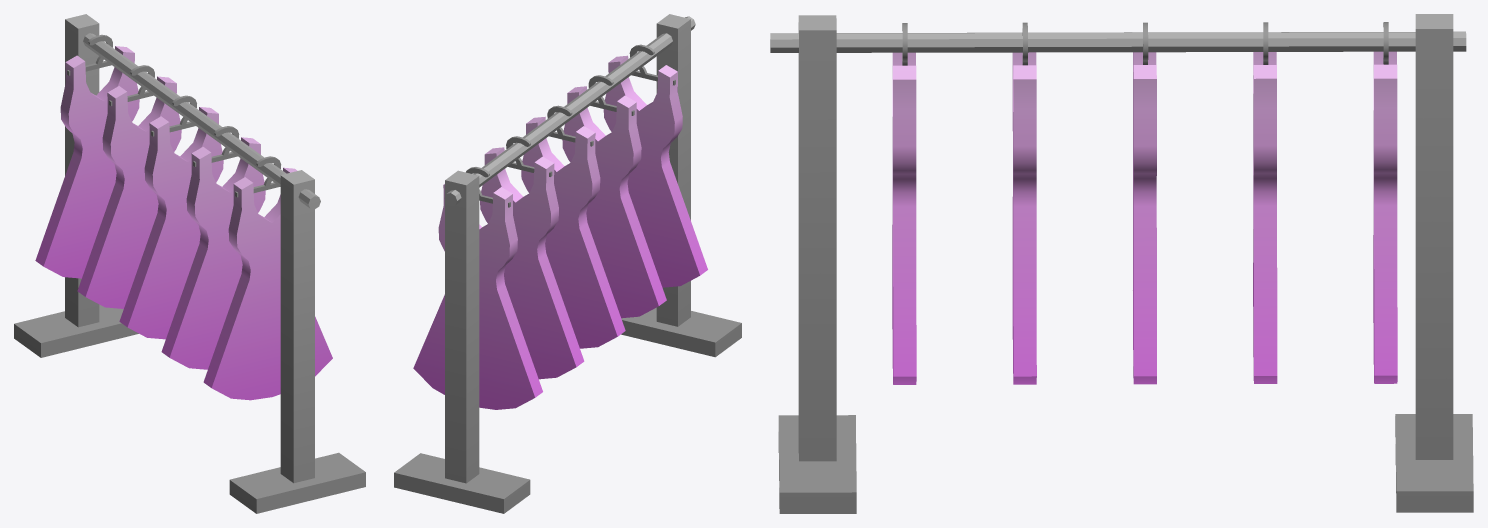
Rendered from cloth stand pink.fbx.
3 renders of one model, left to right at view 1: azimuth 30°, elevation 25°; view 2: azimuth 150°, elevation 25°; view 3: azimuth 270°, elevation 25°, orthographic. The views are drawn at different scales.
Visible parts, largest first — view 1: cloth_stand_pink; view 2: cloth_stand_pink; view 3: cloth_stand_pink.
Boxes of the visible parts, x1,y1,x2,y2 form: cloth_stand_pink: [14, 14, 365, 513]; cloth_stand_pink: [394, 14, 741, 513]; cloth_stand_pink: [770, 14, 1473, 513].
Bounding box in the file's own units: 116 × 281 × 396.
Materials: 1 (1 with a texture image).
